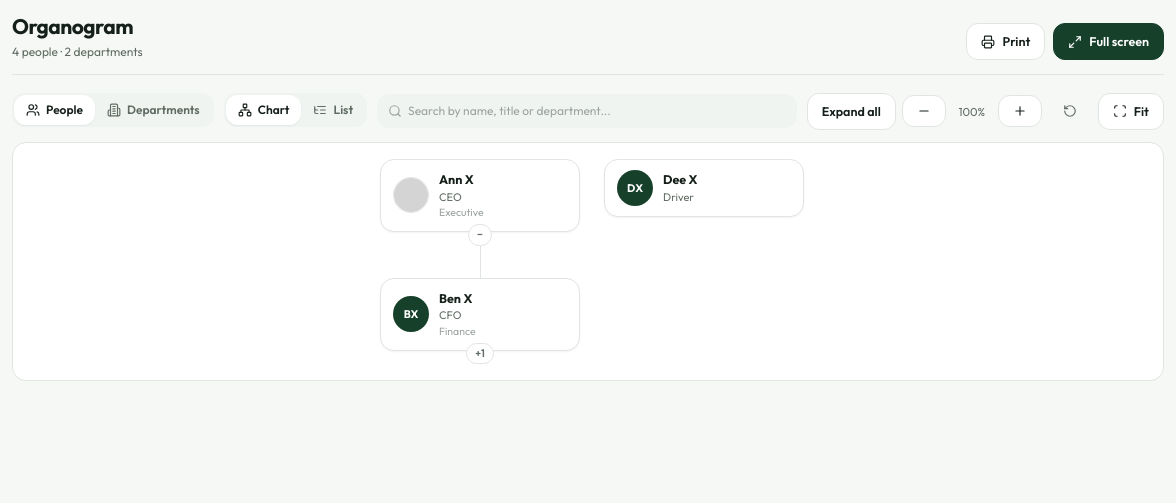
Test: Organogram › prints with everything open
Click the button "Print" at (1006, 42), box [966, 23, 1045, 60]
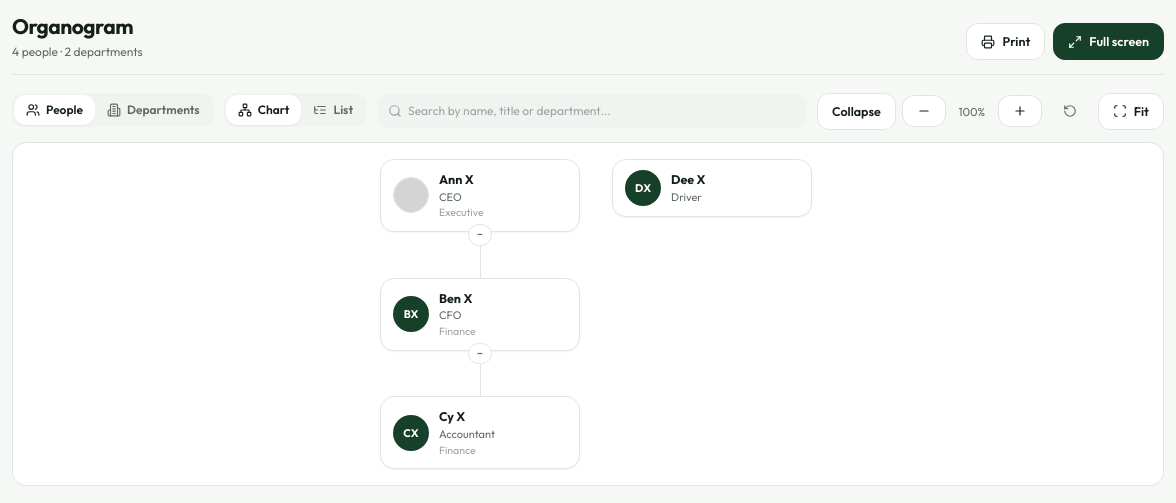
Expected: the text "Cy X" is shown, [439, 408, 465, 424]
